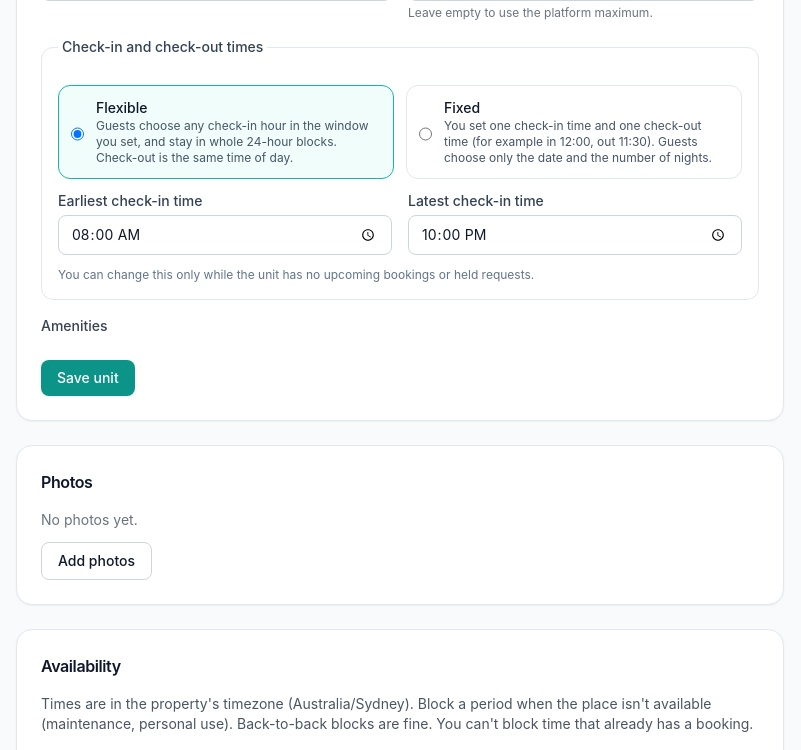
Test: what happens when Save is pressed › shows an error right above the Save button, not at the top of the form
(page scrolled)
Click the button "Save unit". click: (88, 378)
box: [41,360,135,396]
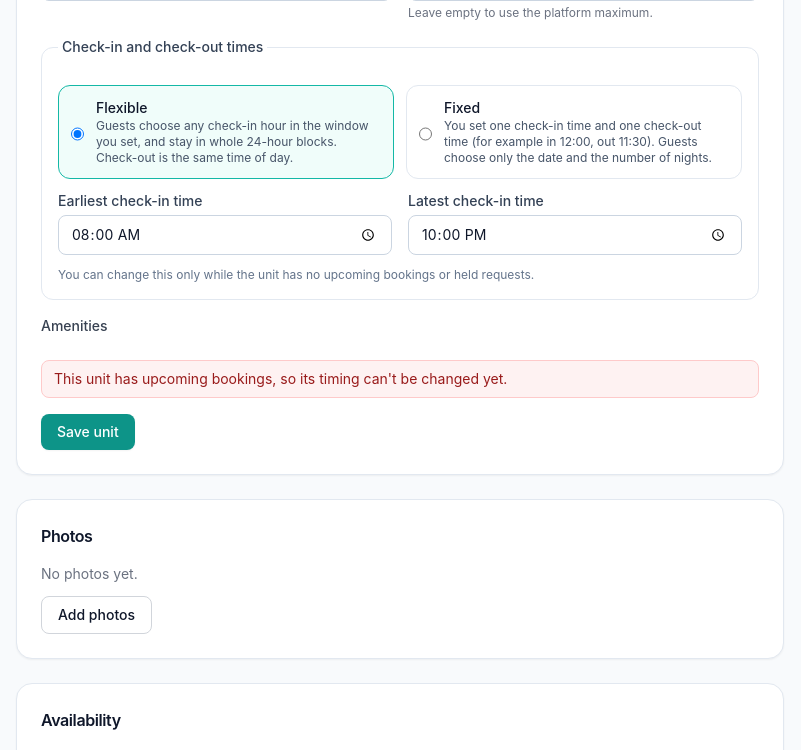
expect the message shows "upcoming bookings": met, box [54,370,507,387]
